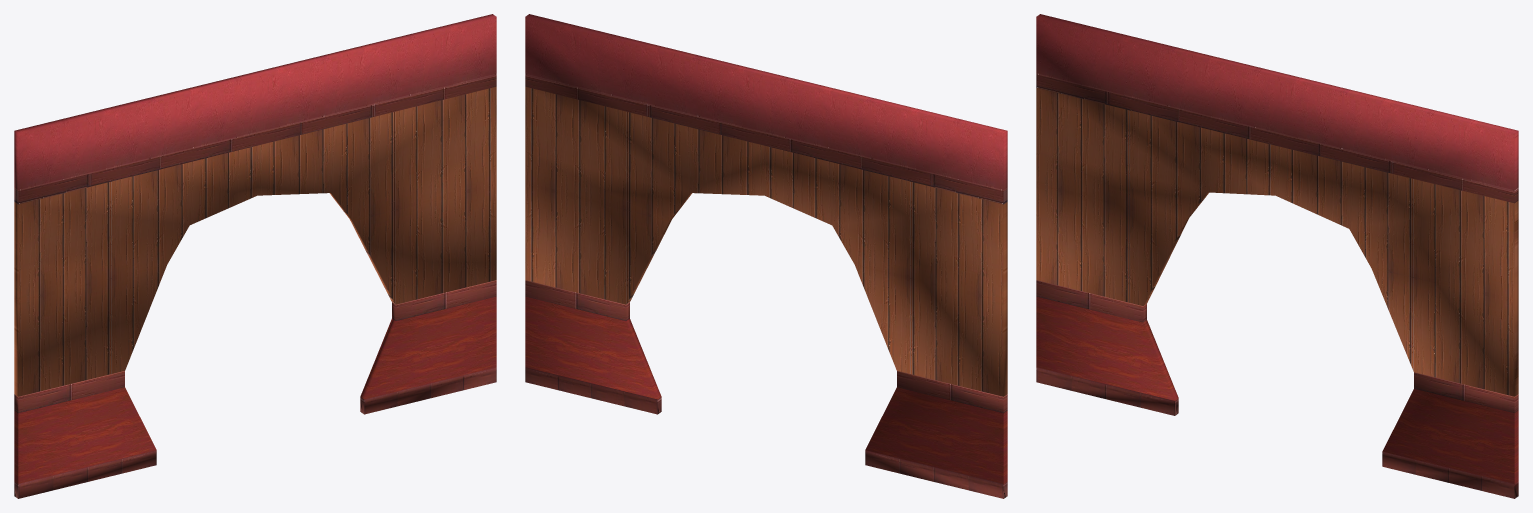
The model's file is room-door.glb.
The picture shows the model from 3 angles, left to right: view 1: azimuth 30°, elevation 25°; view 2: azimuth 150°, elevation 25°; view 3: azimuth 330°, elevation 25°; orthographic projection.
Parts seen in each view (by area): view 1: RoomDoor; view 2: RoomDoor; view 3: RoomDoor.
Boxes of the visible parts, <box> form: RoomDoor: <box>14,14,496,498</box>; RoomDoor: <box>525,14,1007,498</box>; RoomDoor: <box>1036,14,1518,498</box>.
Size of the model in its own units: 10.79 by 7.88 by 0.1502.
Materials: 2 (2 with a texture image).
